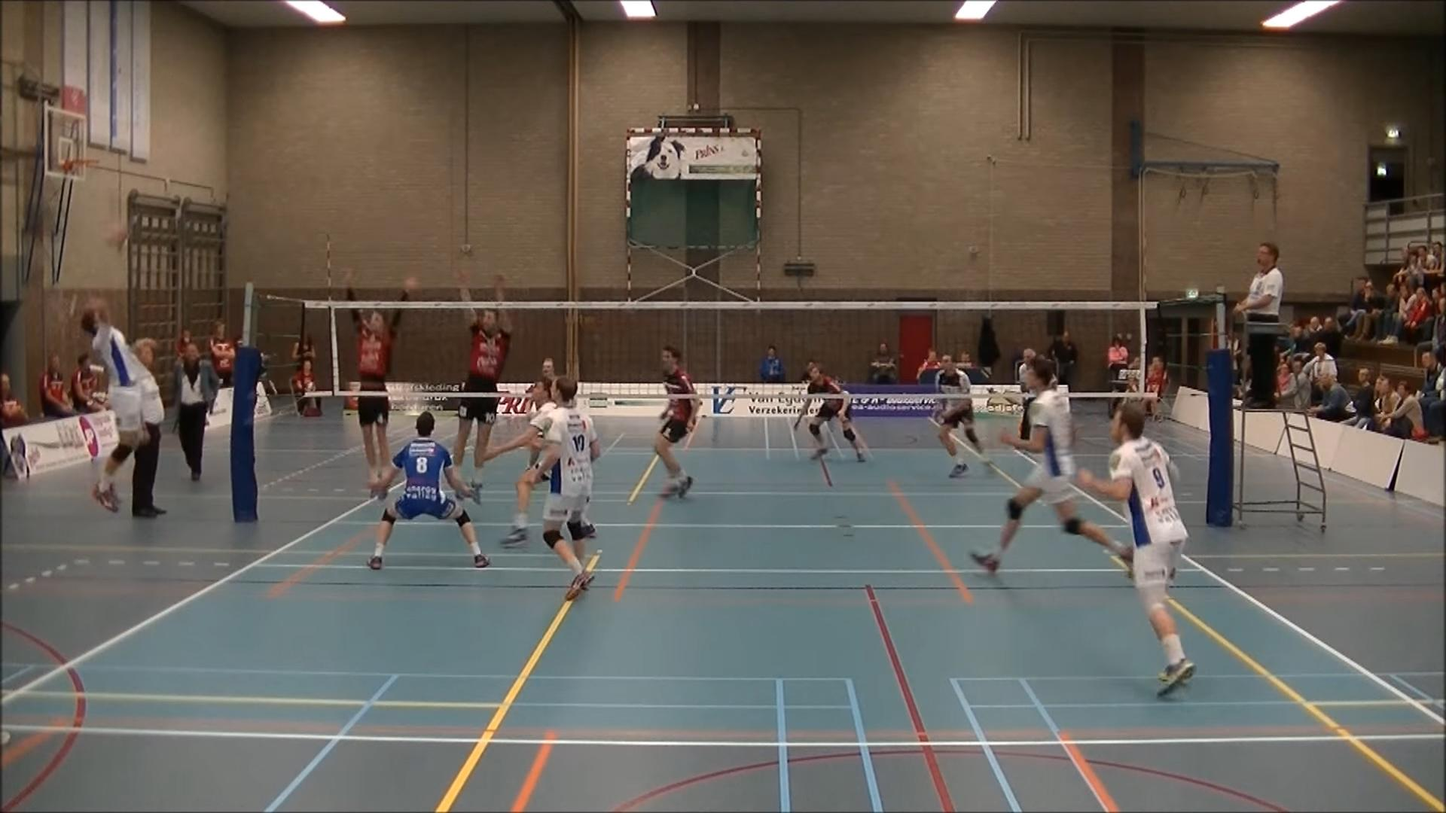Attack: (71, 288, 163, 511)
Block: (440, 263, 516, 513), (338, 268, 403, 505)
Player: (1078, 403, 1194, 695), (971, 357, 1127, 573), (368, 411, 490, 569), (528, 377, 601, 600), (484, 377, 557, 547), (793, 364, 865, 461), (654, 346, 700, 497), (937, 355, 987, 477), (529, 358, 555, 421)
